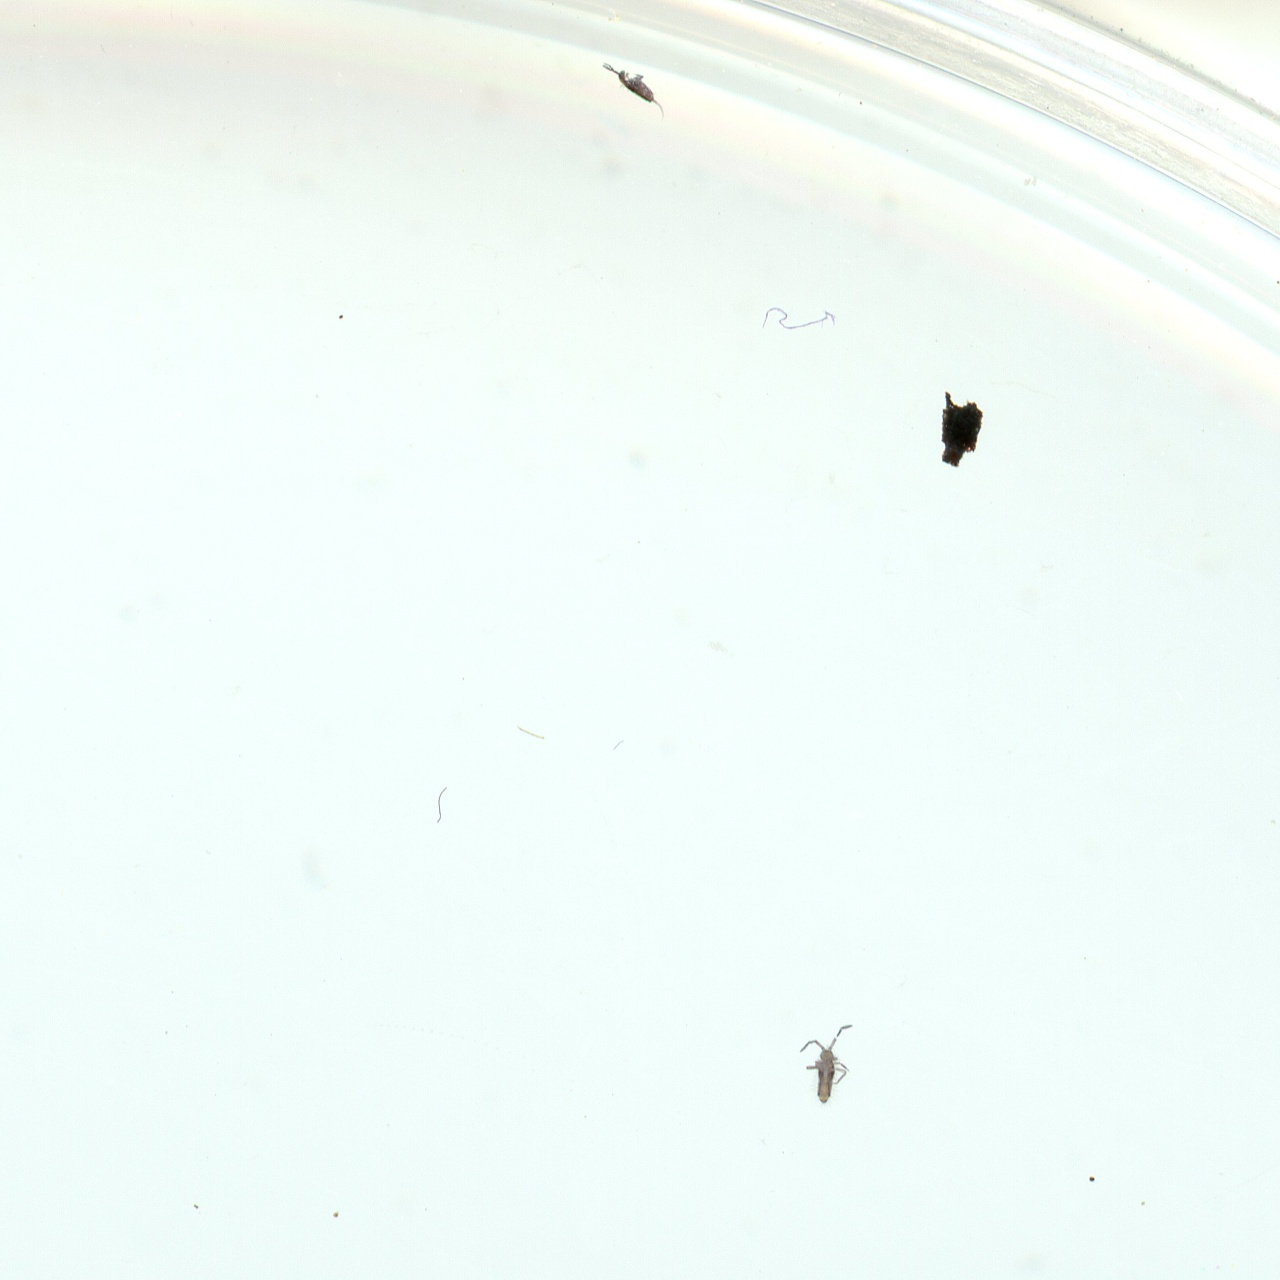arthropod: (585, 28, 688, 150), (791, 1009, 865, 1115)
